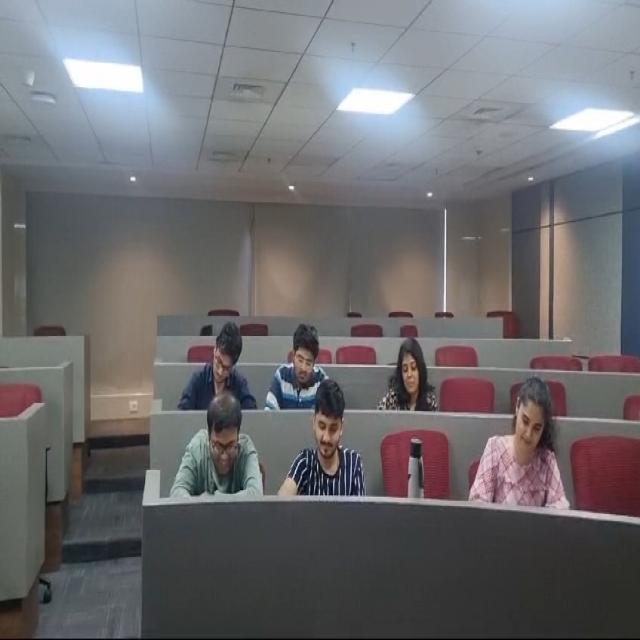cheating: (271, 389, 375, 502), (182, 312, 262, 406), (190, 398, 259, 501)
non-cheating: (489, 358, 566, 510), (264, 312, 344, 412), (377, 308, 442, 415)
